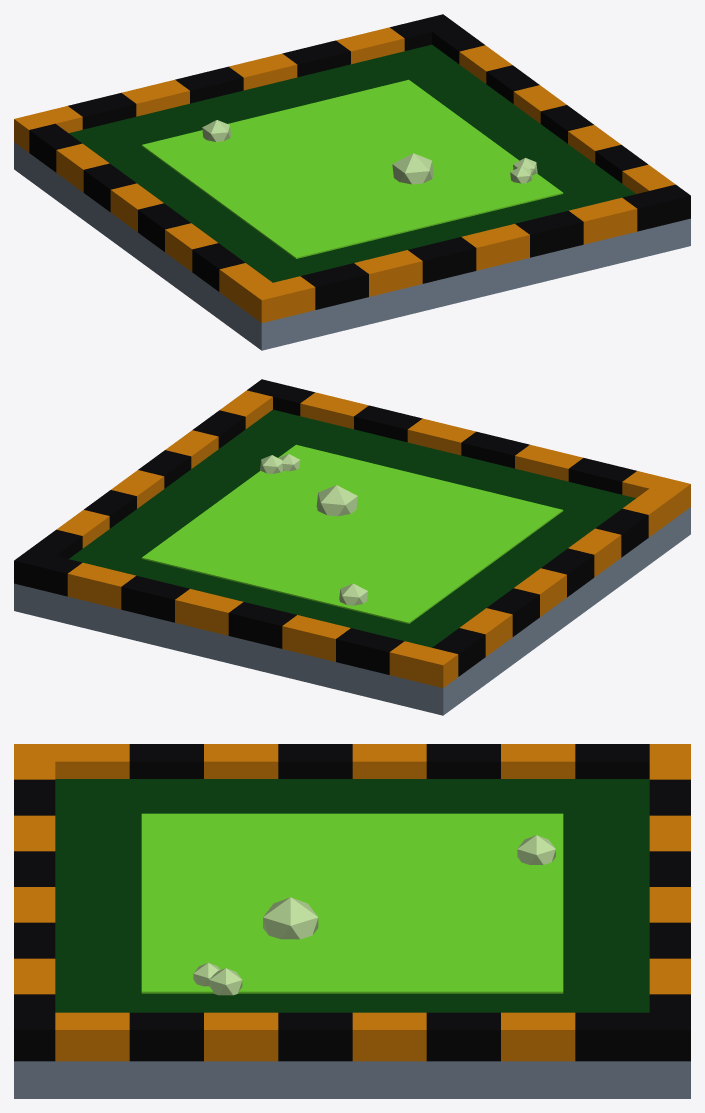
Rendered from SM_Acid_Pool_2x2.glb.
3 views of the same model, one above another, from view 1: azimuth 30°, elevation 25°; view 2: azimuth 150°, elevation 25°; view 3: azimuth 270°, elevation 25° (orthographic). The views are drawn at different scales.
Parts seen in each view (by area): view 1: SM_Acid_Pool_2x2-col; view 2: SM_Acid_Pool_2x2-col; view 3: SM_Acid_Pool_2x2-col.
Part boxes in pixels (bbox=[...]): SM_Acid_Pool_2x2-col: bbox=[14, 14, 690, 350]; SM_Acid_Pool_2x2-col: bbox=[14, 379, 690, 715]; SM_Acid_Pool_2x2-col: bbox=[14, 744, 690, 1098].
Bounding box in the file's own units: 1.96 × 0.2695 × 1.96.
